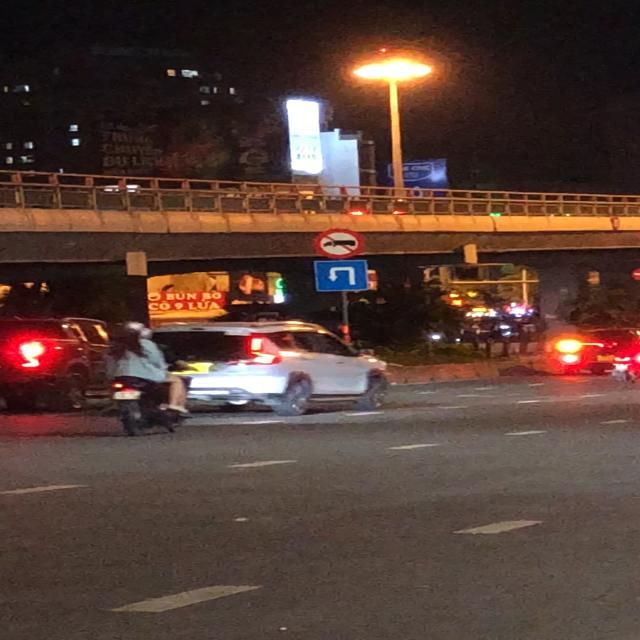Bien bao cam xe so-mi ro-mooc: (311, 227, 366, 260)
